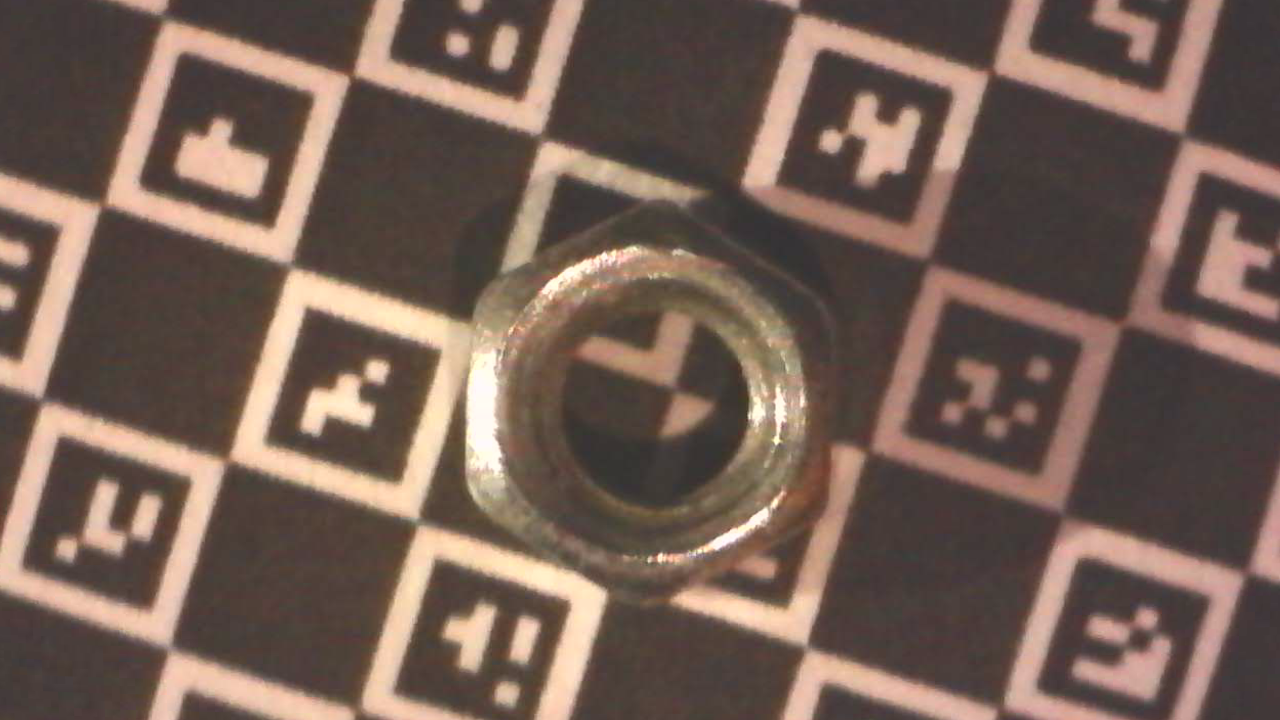Bolt: (465, 193, 835, 612)
